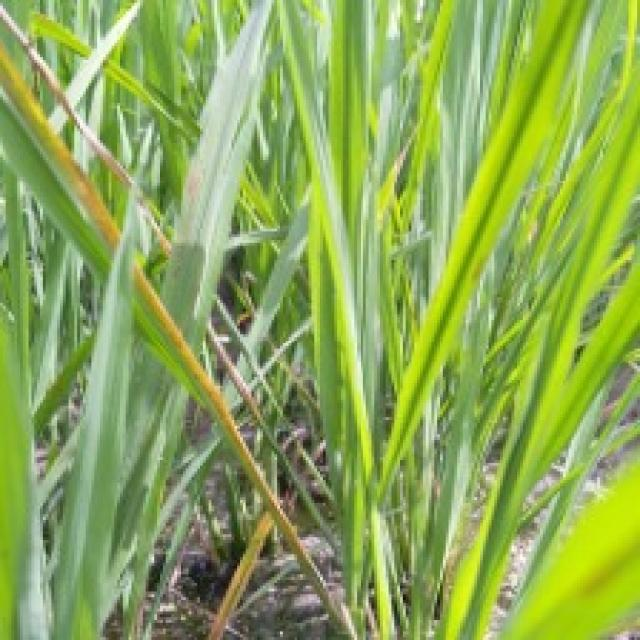Rice___Bacterial_Leaf_Blight: (51, 0, 274, 637)
